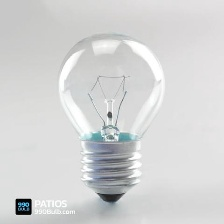light_bulb: (52, 26, 169, 205)
